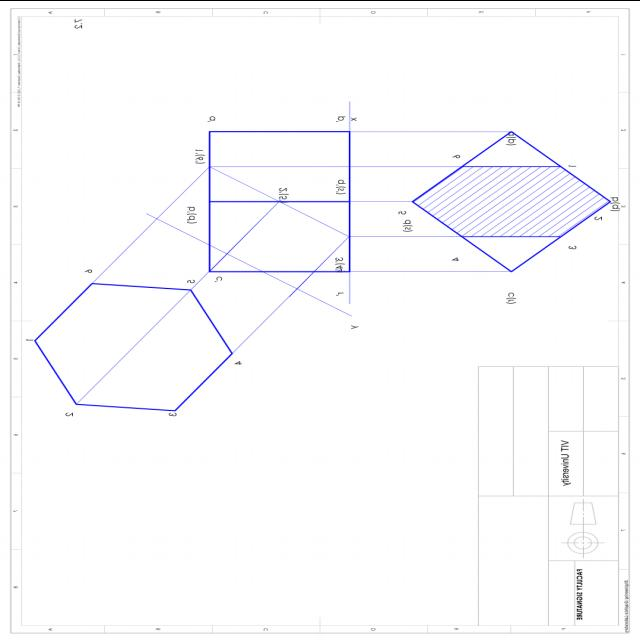Drawings: (14, 90, 631, 453)
